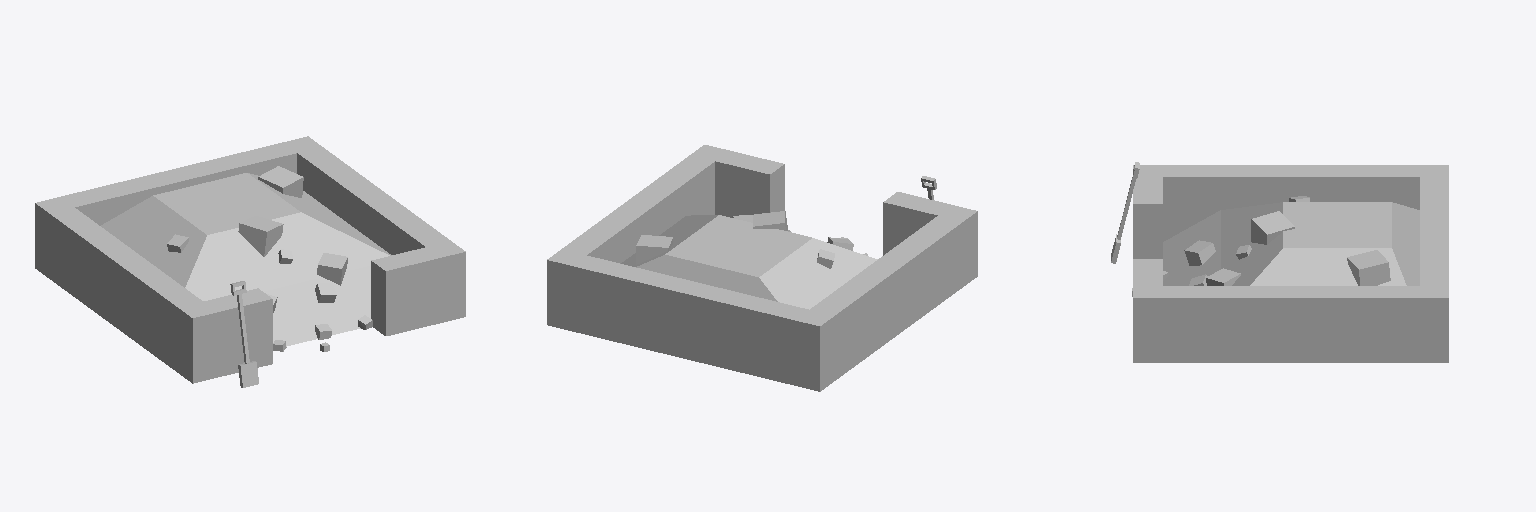
The model's file is SM_Prop_CoalPile_01.obj.
3 renders of one model, left to right at view 1: azimuth 30°, elevation 25°; view 2: azimuth 150°, elevation 25°; view 3: azimuth 270°, elevation 25°, orthographic.
Parts seen in each view (by area): view 1: SM_Prop_CoalPile_01:Mesh; view 2: SM_Prop_CoalPile_01:Mesh; view 3: SM_Prop_CoalPile_01:Mesh.
Boxes of the visible parts, x1=… form: SM_Prop_CoalPile_01:Mesh: x1=35, y1=136, x2=465, y2=387; SM_Prop_CoalPile_01:Mesh: x1=547, y1=145, x2=977, y2=391; SM_Prop_CoalPile_01:Mesh: x1=1111, y1=162, x2=1448, y2=362.
Size of the model in its own units: 7.15 by 2.38 by 7.65.